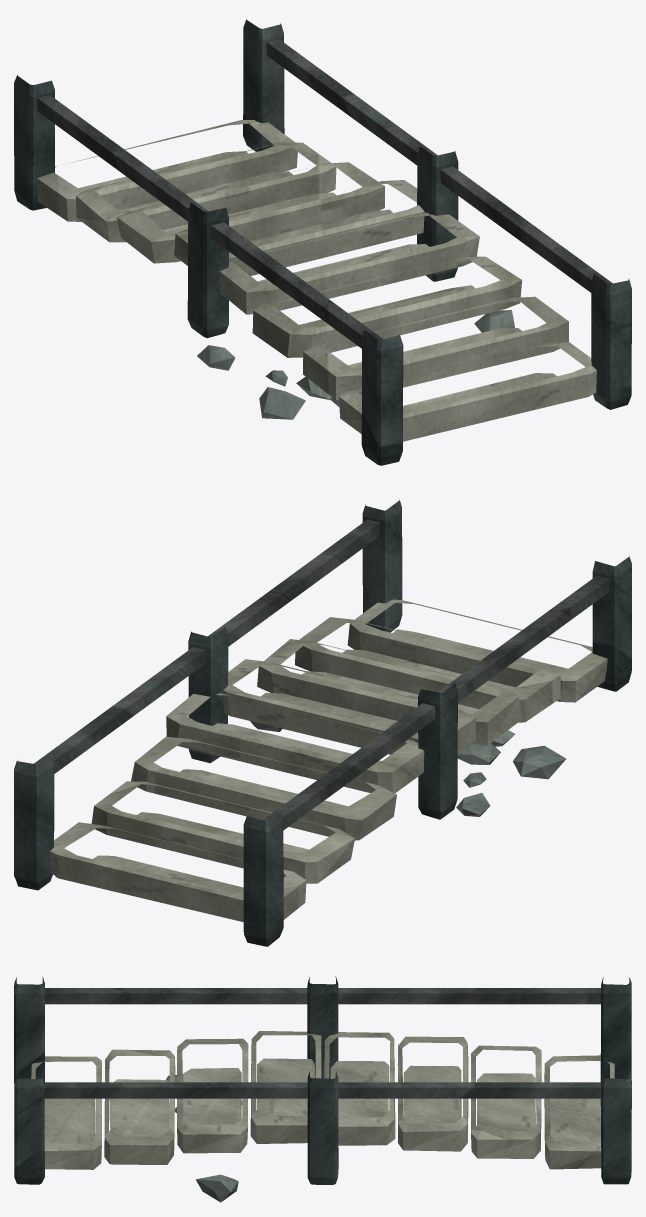
File: 0395_ruined_bridge_20.glb
3 views of the same model, one above another, from view 1: azimuth 30°, elevation 25°; view 2: azimuth 150°, elevation 25°; view 3: azimuth 270°, elevation 25° (orthographic). The views are drawn at different scales.
Parts seen in each view (by area): view 1: stone_light, stone_dark, iron, stone; view 2: stone_light, stone_dark, iron, stone; view 3: stone_light, stone_dark, iron, stone.
Boxes of the visible parts, x1=… form: stone_light: x1=37, y1=120, x2=596, y2=441; stone_dark: x1=14, y1=19, x2=631, y2=465; iron: x1=37, y1=39, x2=612, y2=348; stone: x1=197, y1=310, x2=514, y2=419; stone_light: x1=50, y1=599, x2=607, y2=921; stone_dark: x1=14, y1=500, x2=631, y2=946; iron: x1=34, y1=519, x2=609, y2=830; stone: x1=250, y1=721, x2=566, y2=816; stone_light: x1=31, y1=1031, x2=614, y2=1169; stone_dark: x1=14, y1=976, x2=631, y2=1184; iron: x1=44, y1=988, x2=601, y2=1098; stone: x1=165, y1=1074, x2=242, y2=1202.
Size of the model in its own units: 2.23 by 1.12 by 5.02.
4 materials, 4 textured.
